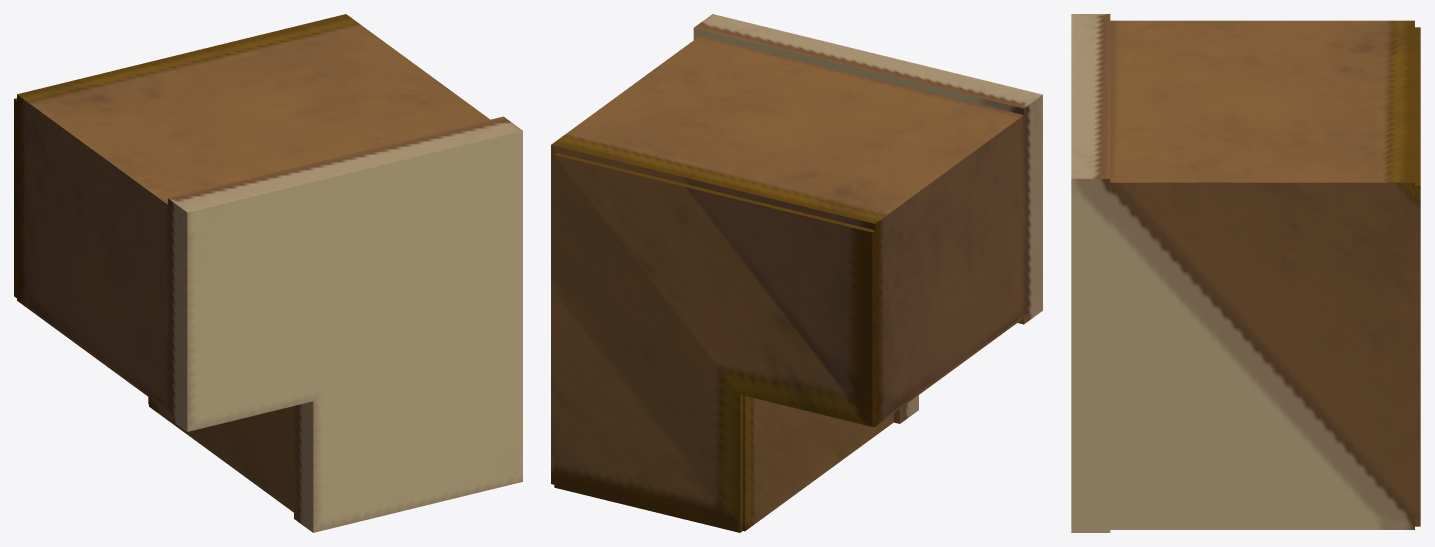
File: pz_counter_trailer_corner.obj
3 renders of one model, left to right at view 1: azimuth 30°, elevation 25°; view 2: azimuth 150°, elevation 25°; view 3: azimuth 270°, elevation 25°, orthographic. The views are drawn at different scales.
Visible parts, largest first — view 1: pz_counter_trailer_corner; view 2: pz_counter_trailer_corner; view 3: pz_counter_trailer_corner.
Part boxes in pixels (<box>): pz_counter_trailer_corner: <box>14,14,522,532</box>; pz_counter_trailer_corner: <box>551,14,1042,532</box>; pz_counter_trailer_corner: <box>1071,14,1420,532</box>.
Bounding box in the file's own units: 1 × 1 × 0.895.
1 material, 1 textured.
